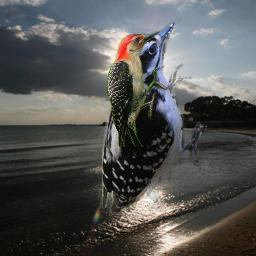Woodpecker: (102, 20, 207, 215), (107, 31, 169, 147)
